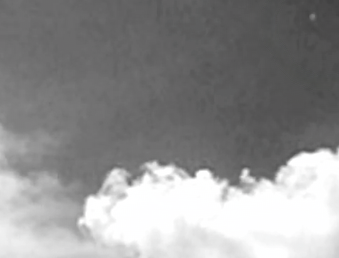Target: (309, 15, 314, 20)
